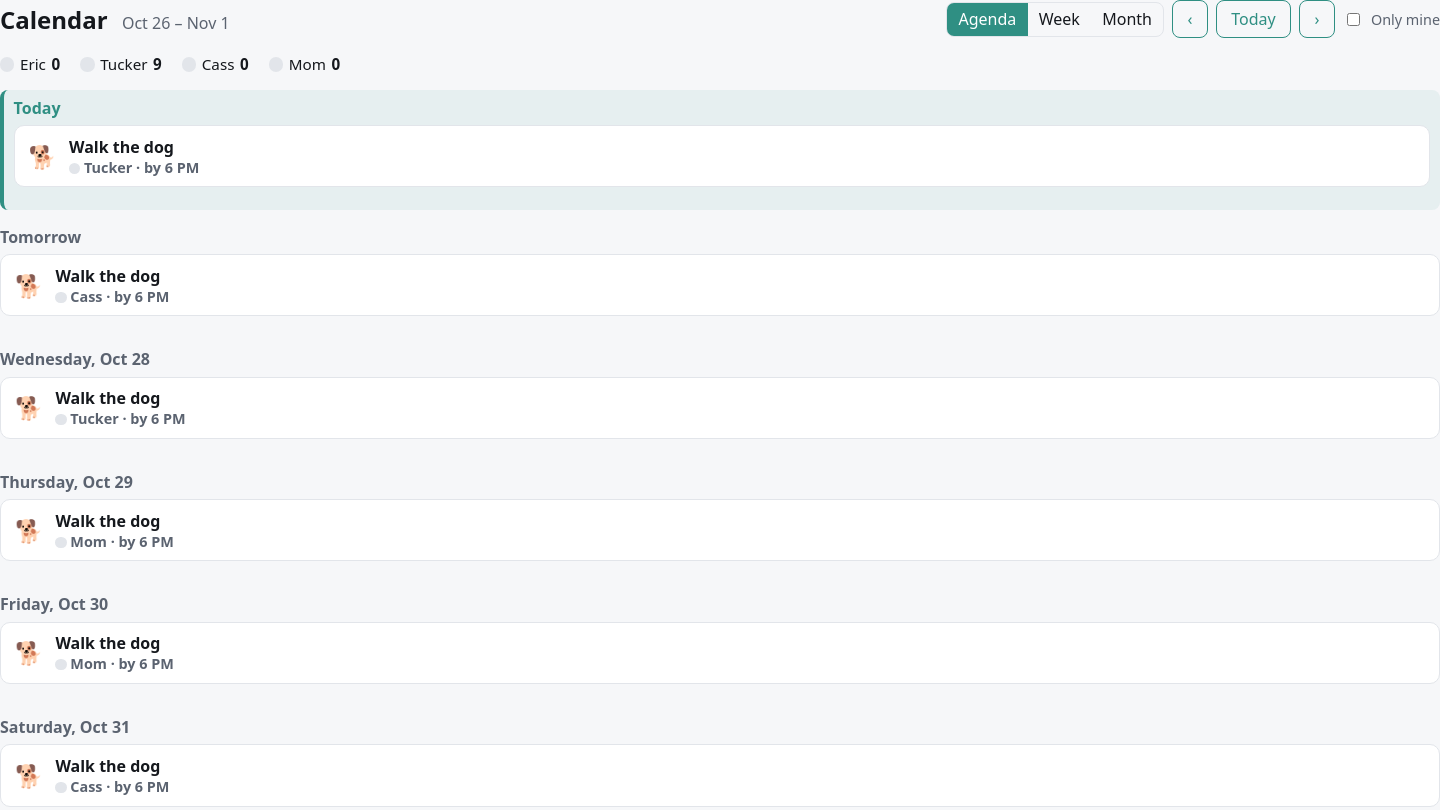
Test case: calendar views › week view: seven columns, a chip per chore, the same panel on click
Click the button "Week" at (1059, 19), box [1028,3,1091,36]
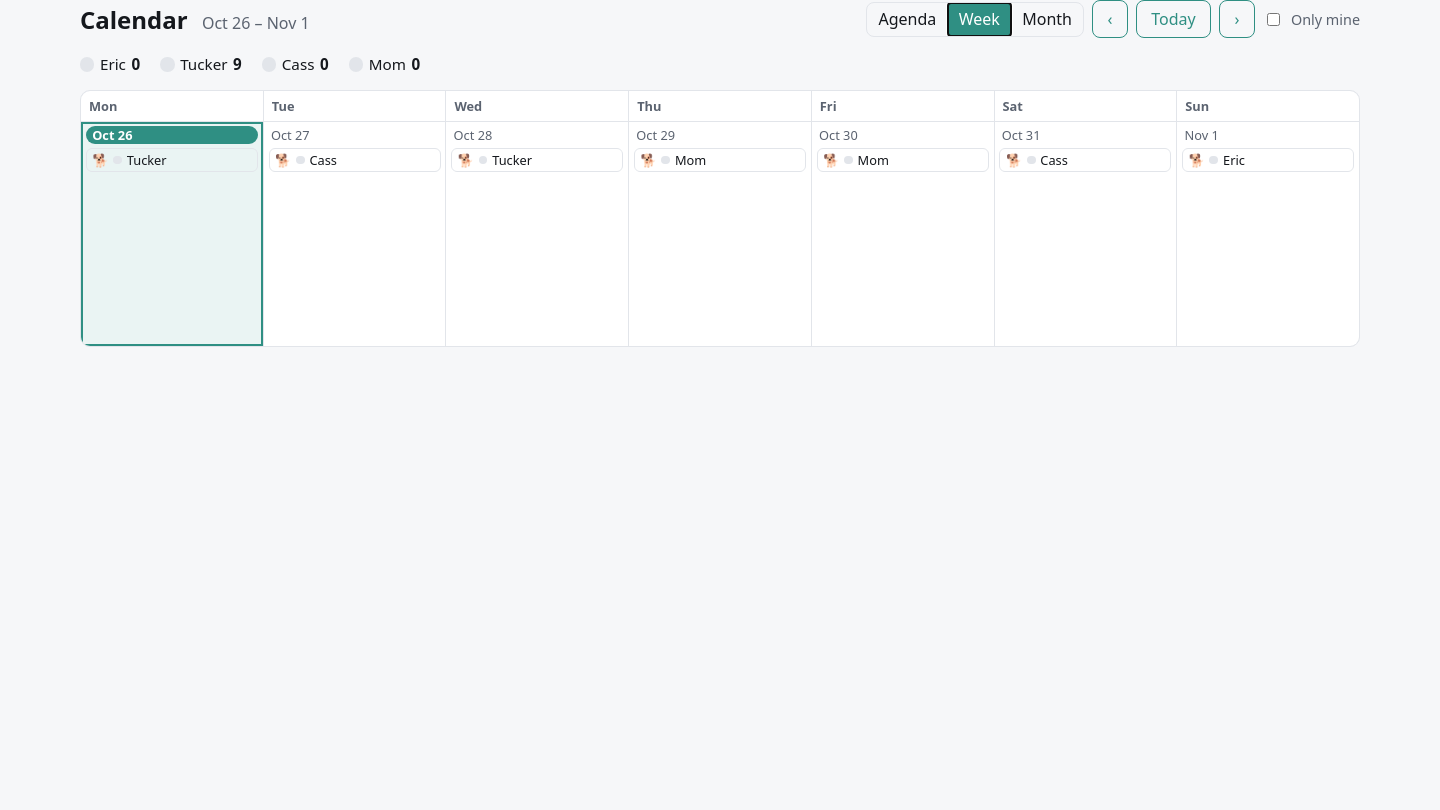
Expected: the number of column headings is 7
Expected: the number of cells is 7
Click the button with aria-label "Walk the dog, Eric" at (1268, 160), box [1182,148,1354,172]
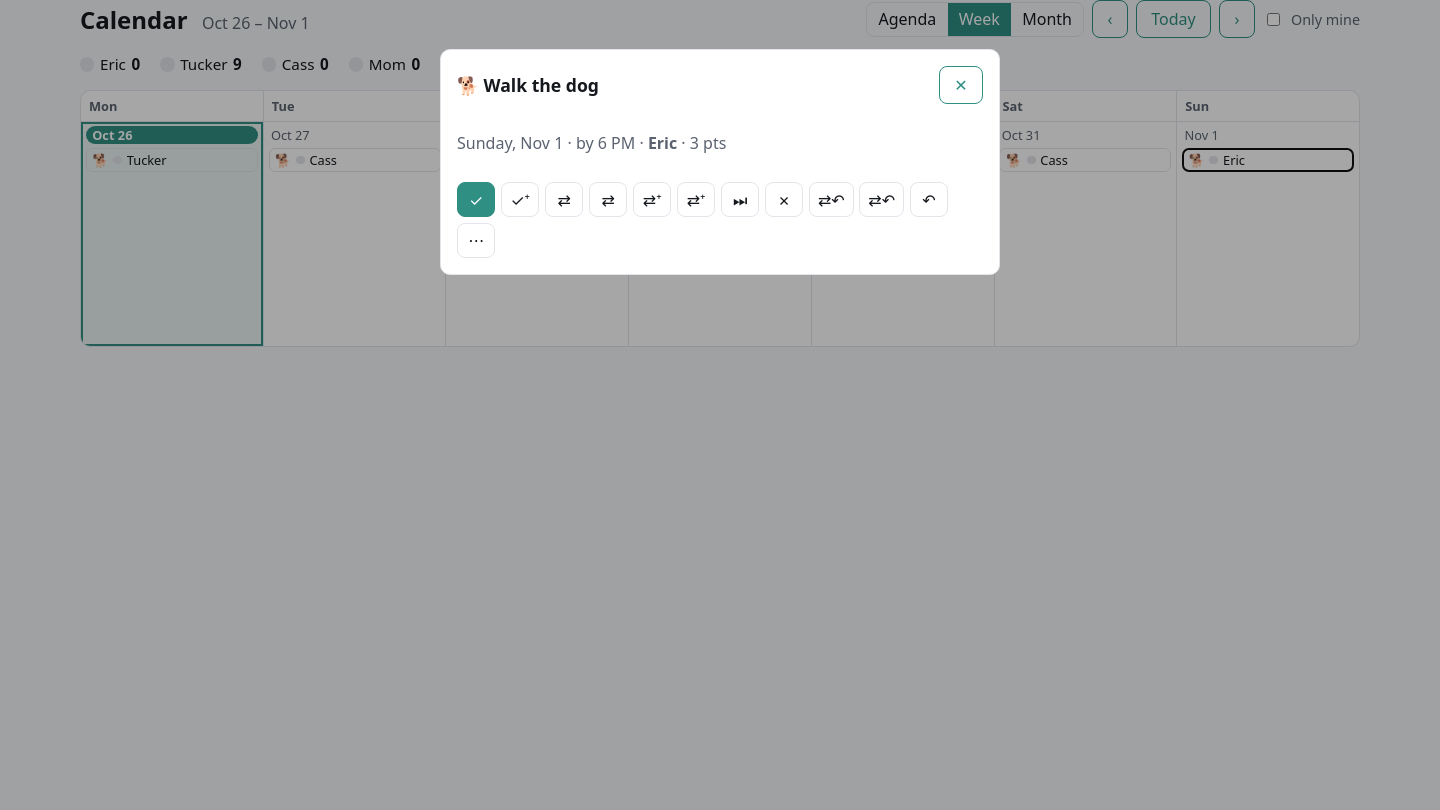
Expected: the dialog "Walk the dog" is shown, [440,49,1000,275]
